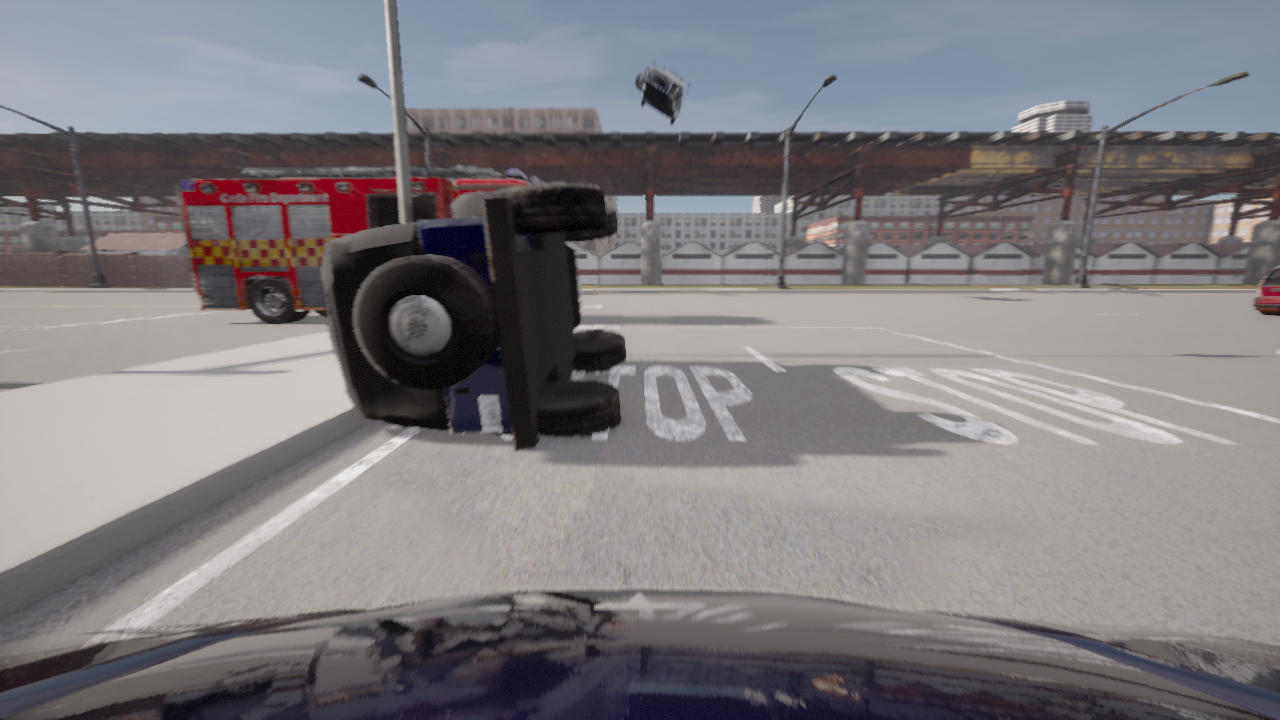cyclist: (0, 588, 1279, 719), (322, 183, 626, 450), (176, 166, 544, 324), (634, 61, 690, 125), (1252, 266, 1279, 315)
